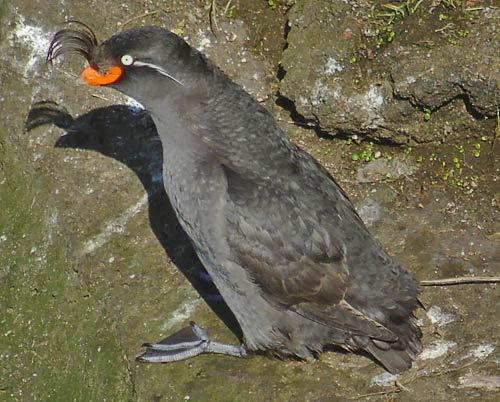005.Crested_Auklet: (46, 21, 425, 376)
